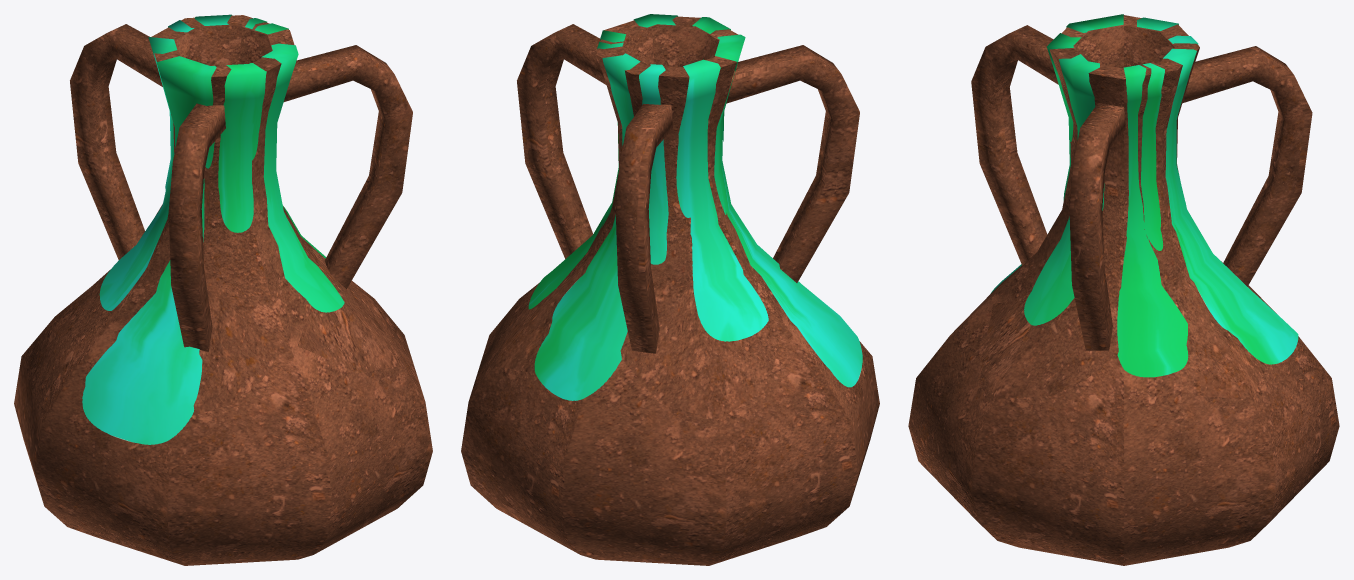
Rendered from Jar_ExplosiveUV.fbx.
3 views of the same model, side by side, from view 1: azimuth 30°, elevation 25°; view 2: azimuth 150°, elevation 25°; view 3: azimuth 270°, elevation 25° (orthographic).
Visible parts, largest first — view 1: 8JarDecaled; view 2: 8JarDecaled; view 3: 8JarDecaled.
Boxes of the visible parts, bbox=[...] form: 8JarDecaled: bbox=[14, 14, 432, 565]; 8JarDecaled: bbox=[461, 14, 879, 565]; 8JarDecaled: bbox=[908, 14, 1339, 565].
Bounding box in the file's own units: 53.22 × 62.27 × 53.22.
Materials: 2 (2 with a texture image).
